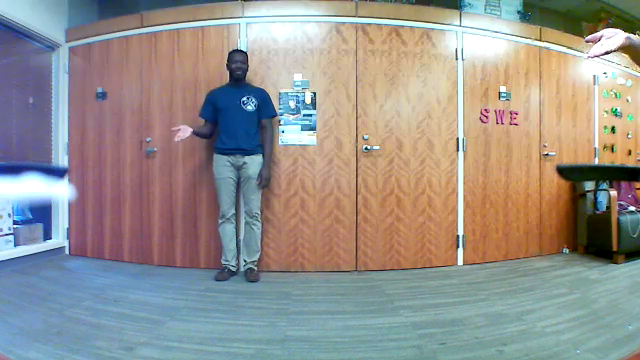land: (569, 20, 627, 65), (170, 120, 202, 146)
